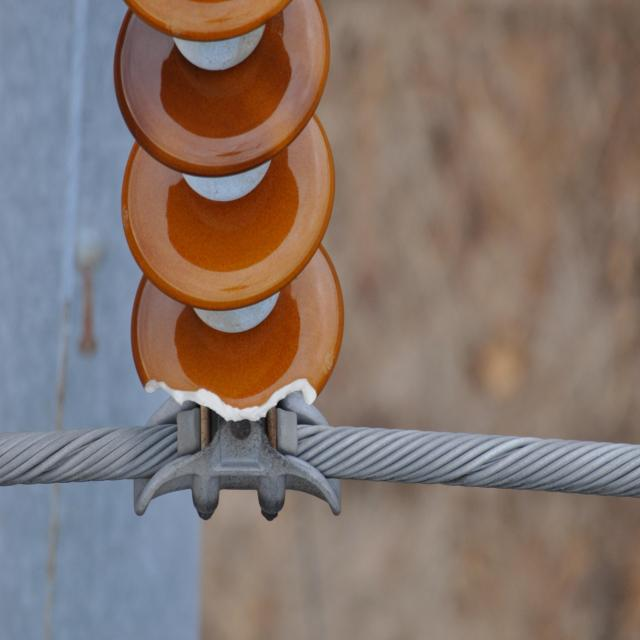broken: (140, 356, 320, 421)
insulator: (114, 1, 344, 420)
